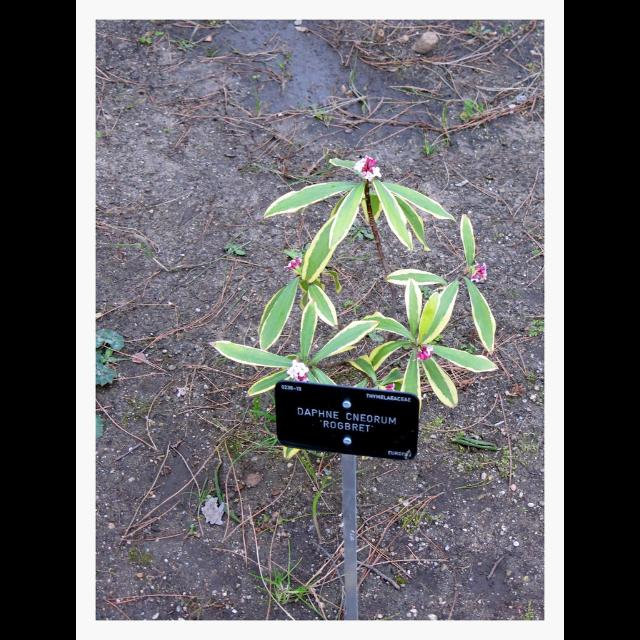Flower: (348, 154, 382, 182), (284, 360, 308, 378), (472, 262, 490, 284), (412, 342, 432, 358), (282, 256, 298, 272), (380, 382, 398, 390)
